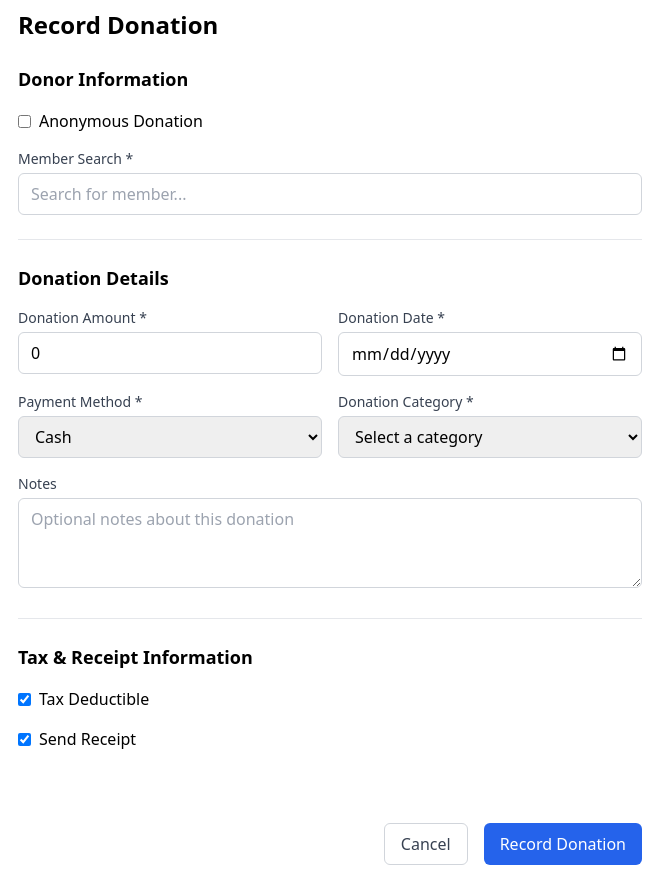
Scenario: DonationForm › Member Search Integration › should display member search results
The width and height of the screenshot is (661, 882).
In the field labelled "Member Search *": (330, 194) [18, 173, 642, 215], type "John"
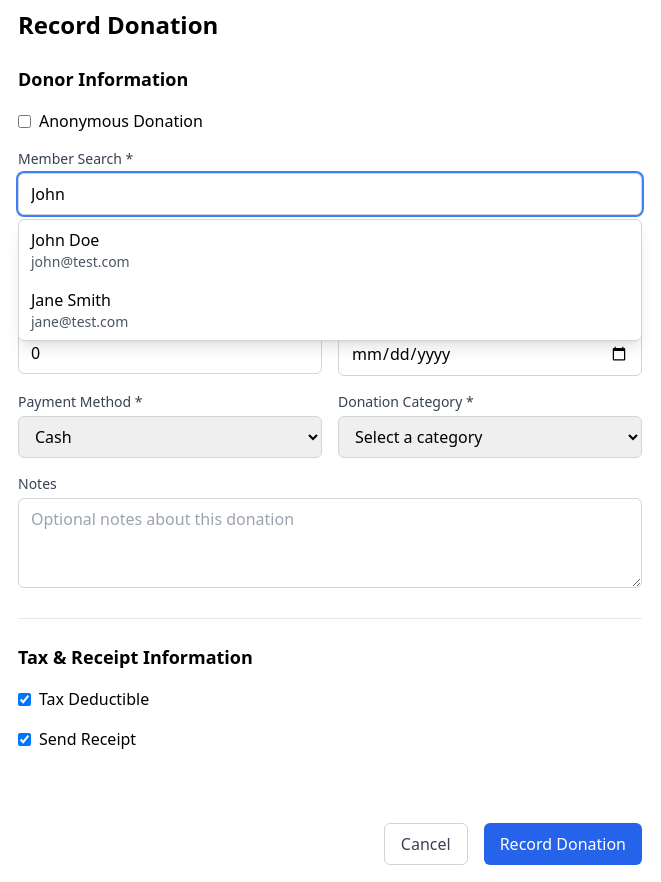
Expected: the text "John Doe" is shown, [31, 229, 99, 251]
Expected: the text "Jane Smith" is shown, [31, 289, 111, 311]
